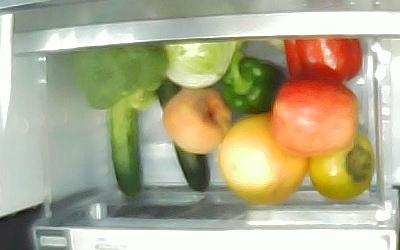apple: (271, 78, 358, 157)
broccoli: (70, 43, 169, 111)
cucumber: (155, 77, 211, 192), (109, 99, 143, 199)
grapefruit: (218, 114, 308, 205)
lettuce: (163, 40, 241, 90)
paprika: (219, 50, 283, 116), (284, 36, 362, 85)
peach: (161, 87, 231, 154)
persimmon: (307, 127, 372, 203)
